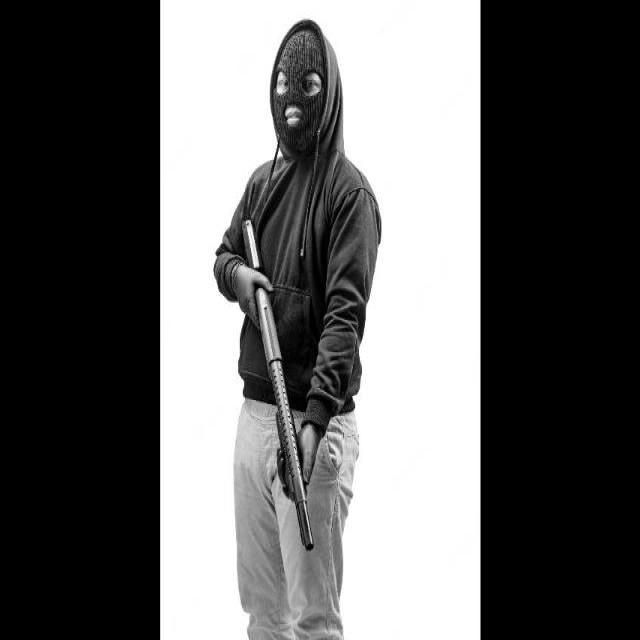6_pasamontana: (272, 32, 326, 152)
